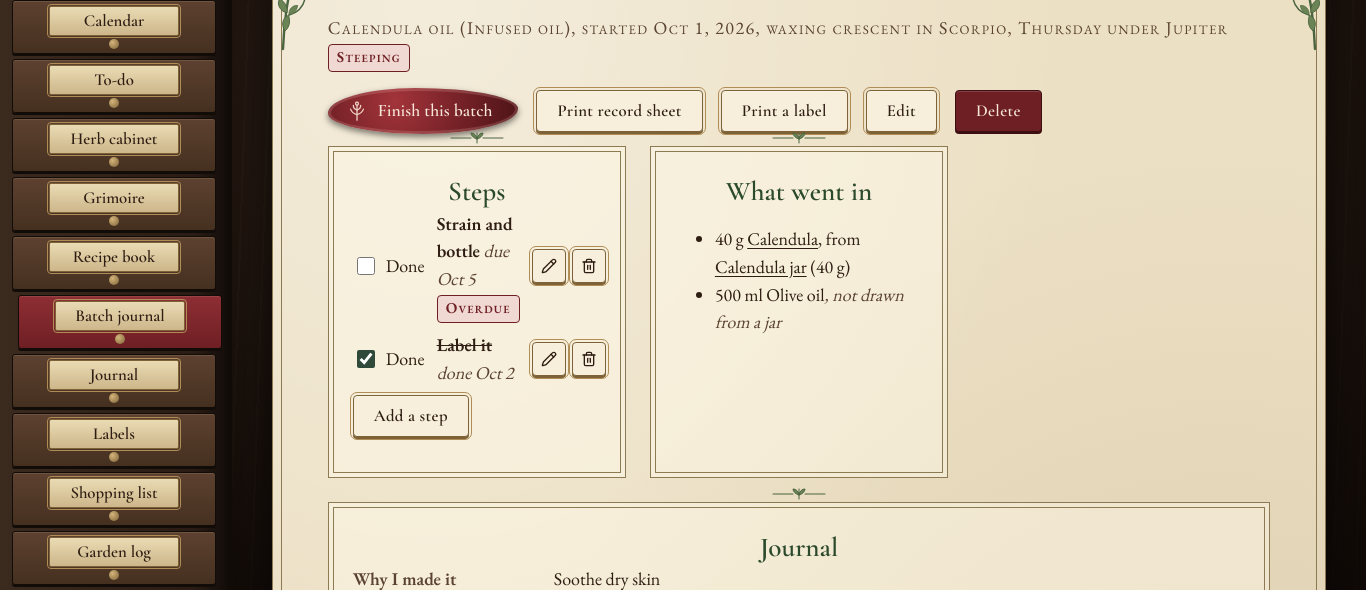
Test case: asks for a step title before adding
Click the button "Add a step": [411, 416] box x1=353 y1=394 x2=469 y2=436
(page scrolled)
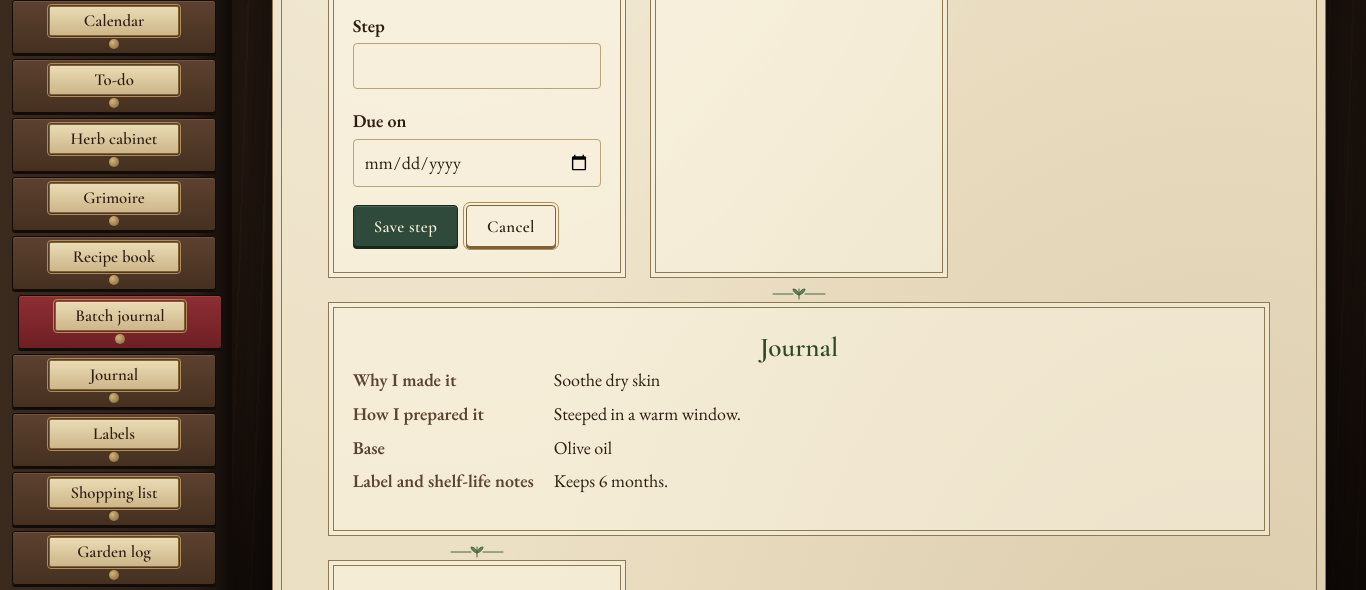
Click the button "Save step": [405, 226] box x1=353 y1=205 x2=458 y2=247
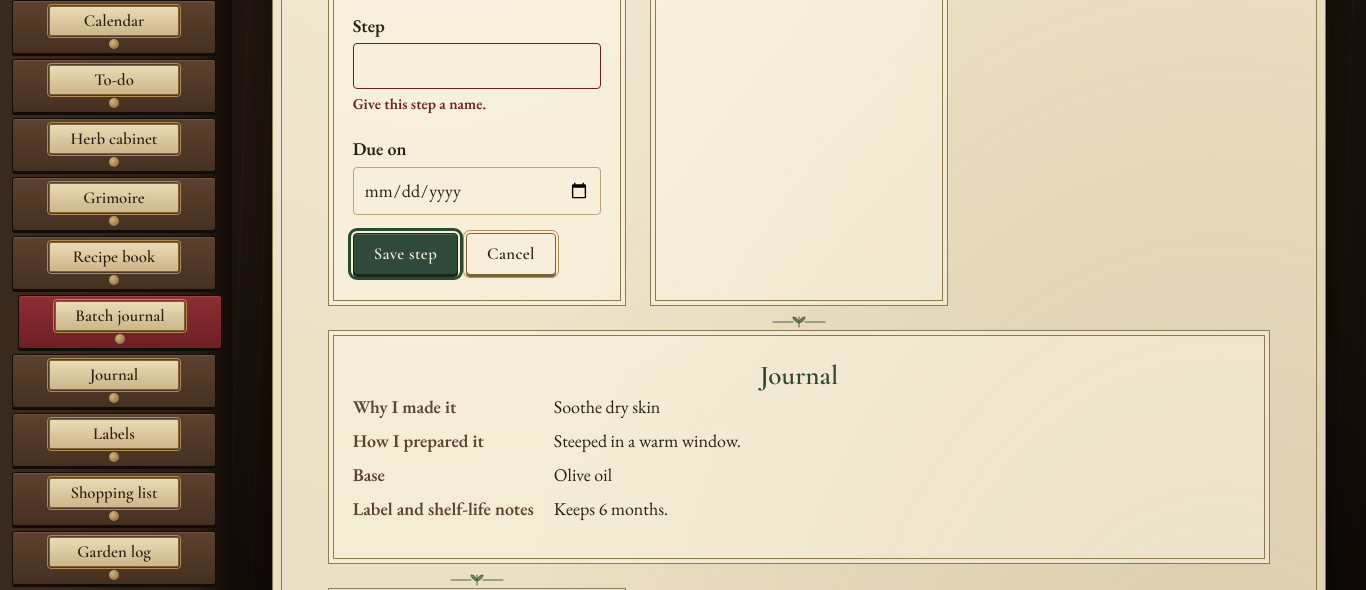
Now the text "Give this step a name." is shown, box x1=353 y1=94 x2=486 y2=114
